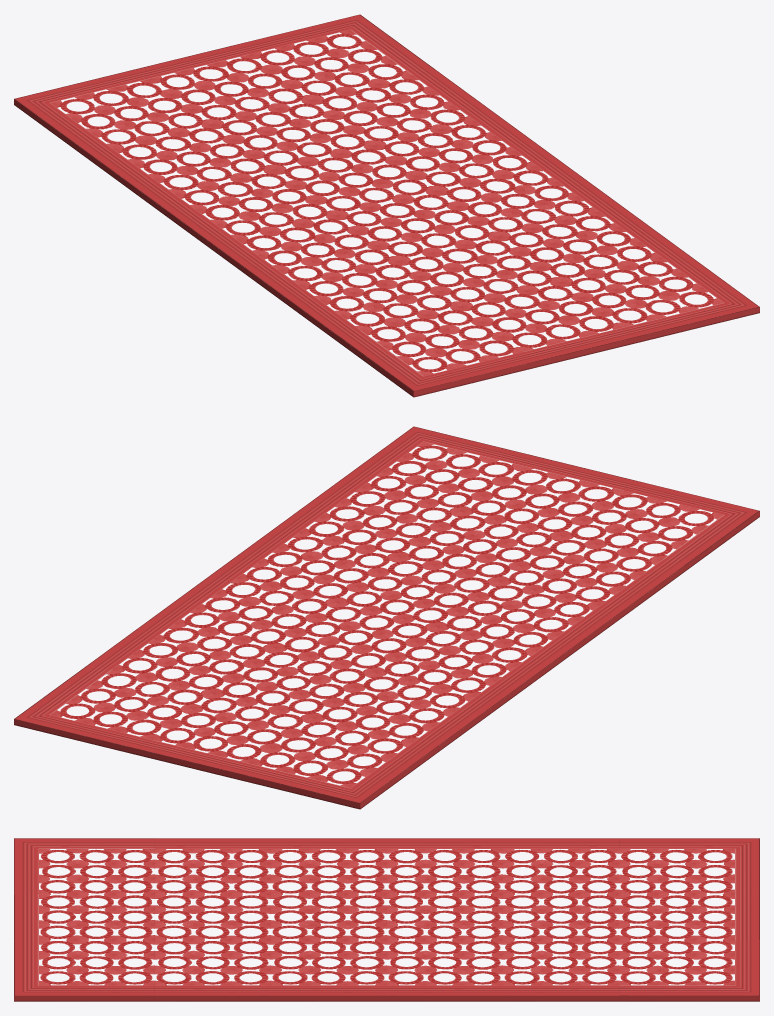
File: nonslip_pad.FBX
3 views of the same model, one above another, from view 1: azimuth 30°, elevation 25°; view 2: azimuth 150°, elevation 25°; view 3: azimuth 270°, elevation 25° (orthographic). The views are drawn at different scales.
Parts seen in each view (by area): view 1: Plane001; view 2: Plane001; view 3: Plane001.
Boxes of the visible parts, x1,y1,x2,y2 form: Plane001: (14, 14, 759, 397); Plane001: (14, 426, 759, 809); Plane001: (14, 838, 759, 1001).
Size of the model in its own units: 0.3 by 0.6 by 0.005.
Materials: 1 (1 with a texture image).
